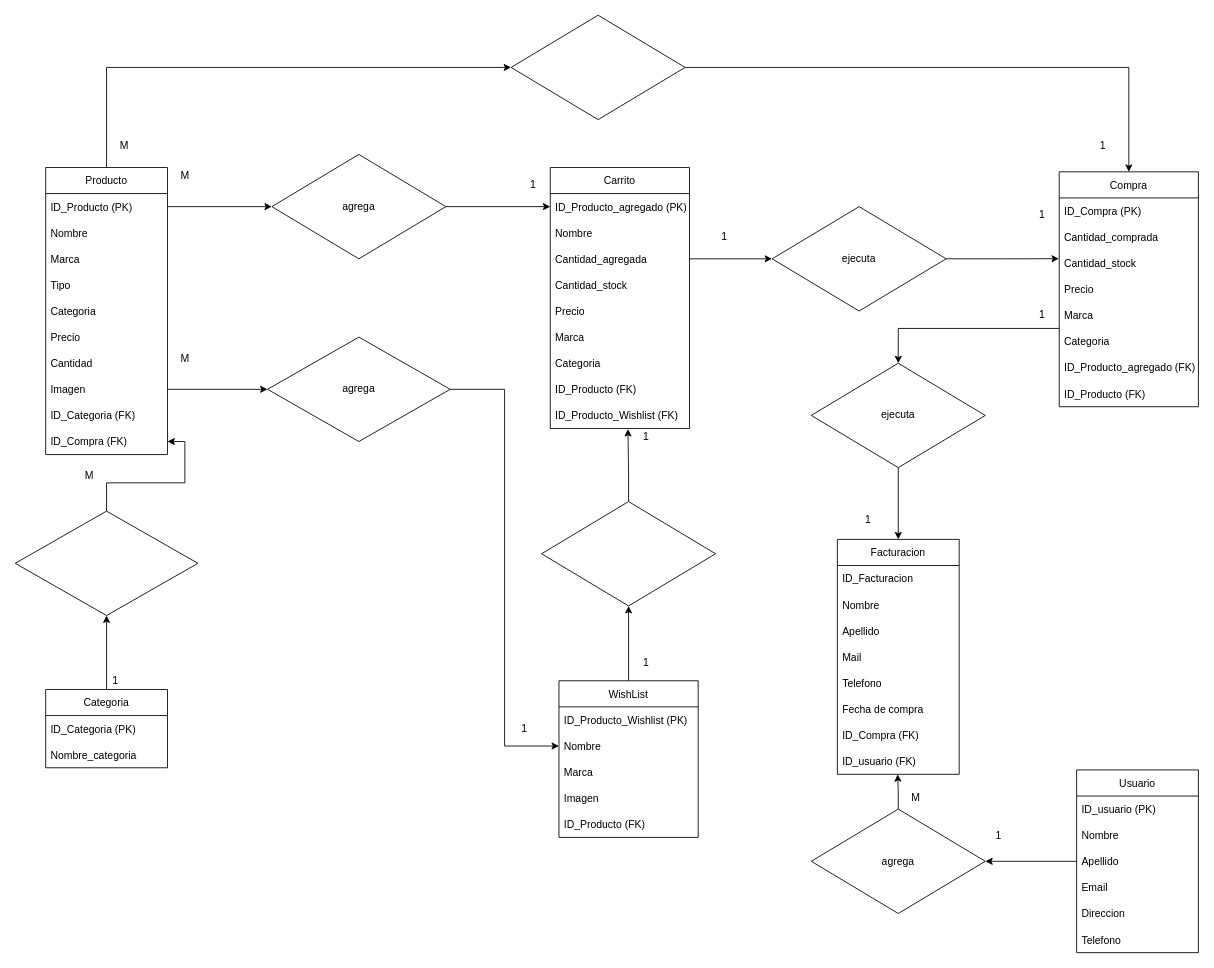
Some shapes in this 1214 by 968 pixel diagram are drawn without their labels. The centre of each missing label's shape, as x and y in pixels:
carga: the point at 106,563
Se agrega a: the point at 628,553
Se modifica: the point at 597,67
